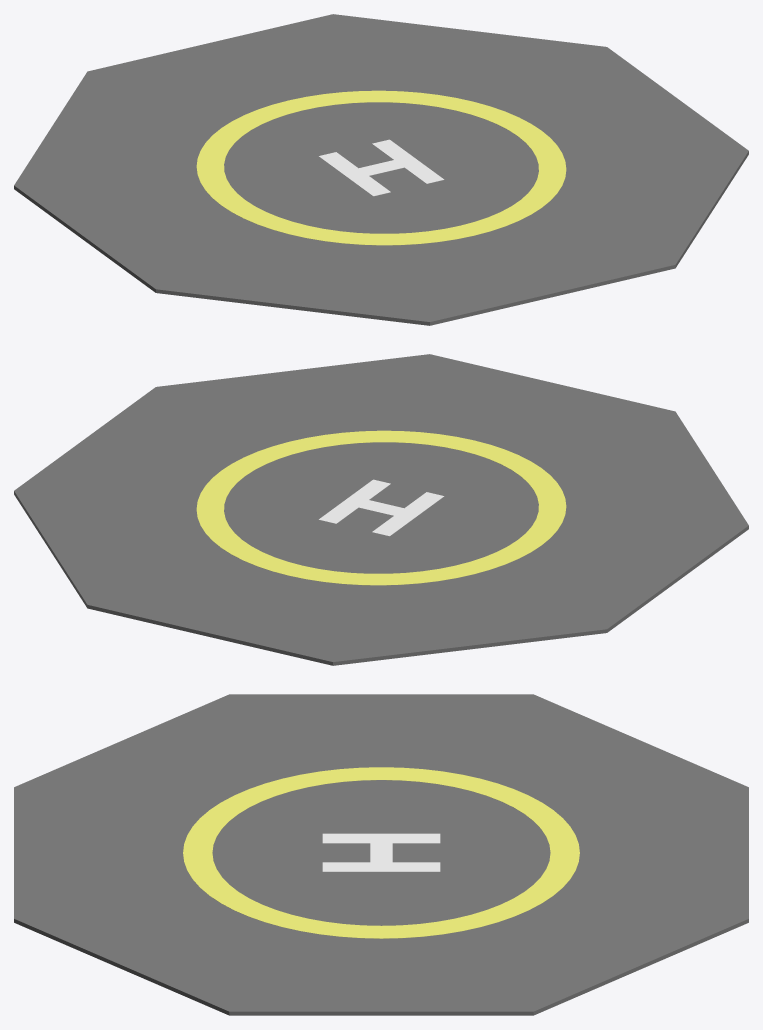
File: Image-1709269337472-Helideck.fbx
The picture shows the model from 3 angles, top to bottom: view 1: azimuth 30°, elevation 25°; view 2: azimuth 150°, elevation 25°; view 3: azimuth 270°, elevation 25°; orthographic projection. The views are drawn at different scales.
Parts seen in each view (by area): view 1: PANEL 1 of SBFRAMEWORK 1 of FRMWORK 1 of STRUCTURE /HELIDECK, PANEL 2 of SBFRAMEWORK 1 of FRMWORK 1 of STRUCTURE /HELIDECK, PANEL 3 of SBFRAMEWORK 1 of FRMWORK 1 of STRUCTURE /HELIDECK; view 2: PANEL 1 of SBFRAMEWORK 1 of FRMWORK 1 of STRUCTURE /HELIDECK, PANEL 2 of SBFRAMEWORK 1 of FRMWORK 1 of STRUCTURE /HELIDECK, PANEL 3 of SBFRAMEWORK 1 of FRMWORK 1 of STRUCTURE /HELIDECK; view 3: PANEL 1 of SBFRAMEWORK 1 of FRMWORK 1 of STRUCTURE /HELIDECK, PANEL 2 of SBFRAMEWORK 1 of FRMWORK 1 of STRUCTURE /HELIDECK, PANEL 3 of SBFRAMEWORK 1 of FRMWORK 1 of STRUCTURE /HELIDECK.
Boxes of the visible parts, x1,y1,x2,y2 form: PANEL 1 of SBFRAMEWORK 1 of FRMWORK 1 of STRUCTURE /HELIDECK: (14,14,748,325); PANEL 2 of SBFRAMEWORK 1 of FRMWORK 1 of STRUCTURE /HELIDECK: (196,90,566,245); PANEL 3 of SBFRAMEWORK 1 of FRMWORK 1 of STRUCTURE /HELIDECK: (318,139,444,196); PANEL 1 of SBFRAMEWORK 1 of FRMWORK 1 of STRUCTURE /HELIDECK: (14,354,748,665); PANEL 2 of SBFRAMEWORK 1 of FRMWORK 1 of STRUCTURE /HELIDECK: (196,430,566,585); PANEL 3 of SBFRAMEWORK 1 of FRMWORK 1 of STRUCTURE /HELIDECK: (318,479,444,536); PANEL 1 of SBFRAMEWORK 1 of FRMWORK 1 of STRUCTURE /HELIDECK: (14,694,748,1015); PANEL 2 of SBFRAMEWORK 1 of FRMWORK 1 of STRUCTURE /HELIDECK: (183,767,579,938); PANEL 3 of SBFRAMEWORK 1 of FRMWORK 1 of STRUCTURE /HELIDECK: (322,833,440,871).
Size of the model in its own units: 25 by 25 by 0.4.
